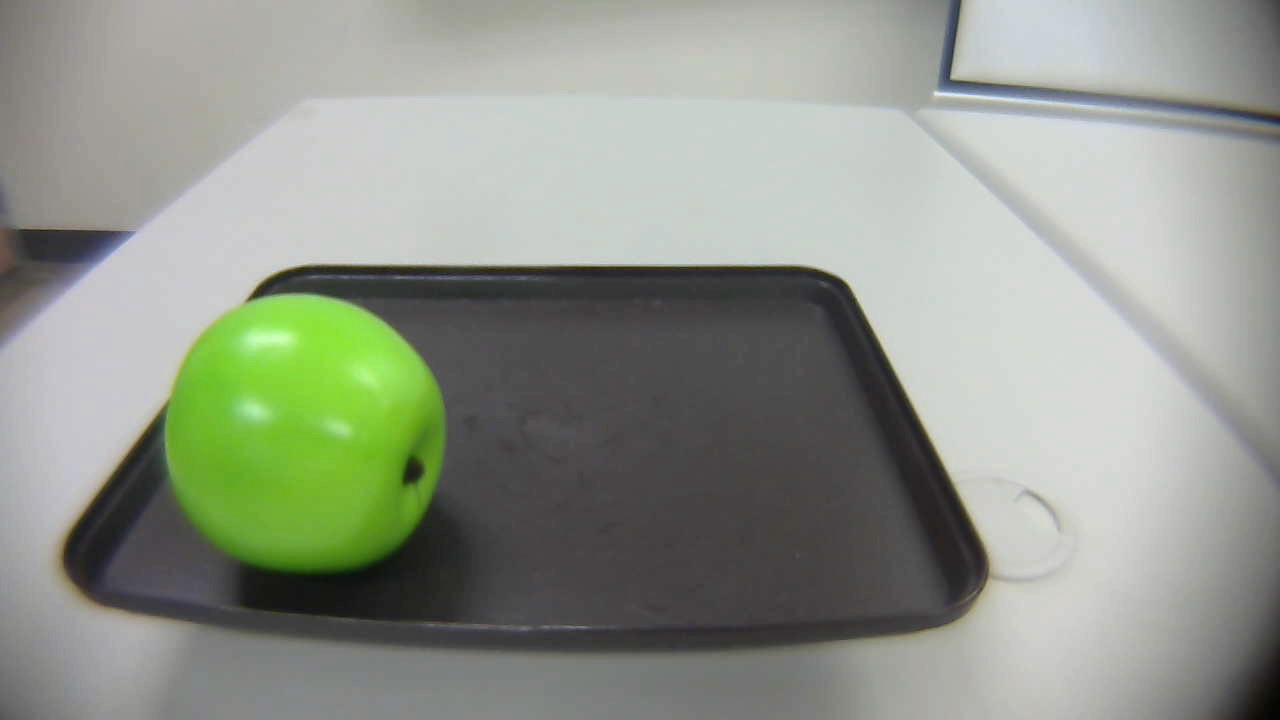green apple: (154, 295, 459, 577)
